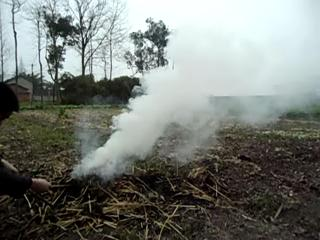yanwu: (82, 37, 260, 170)
